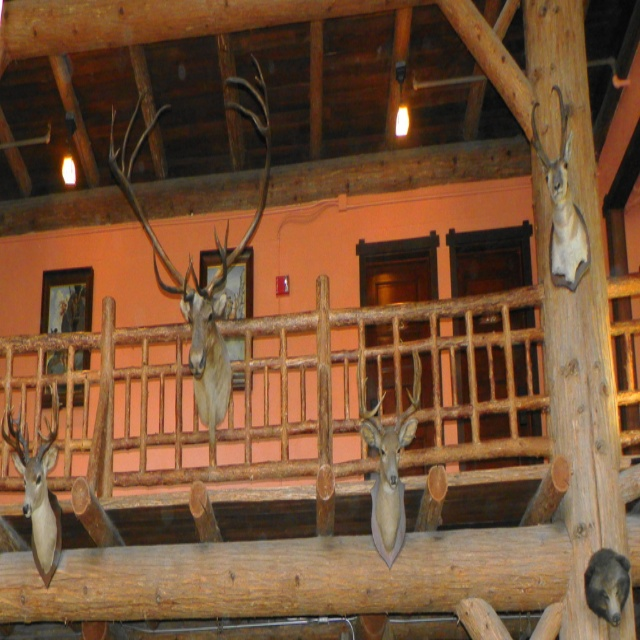Deer: (105, 50, 270, 432), (528, 77, 594, 289), (358, 346, 420, 570), (4, 398, 58, 586)
